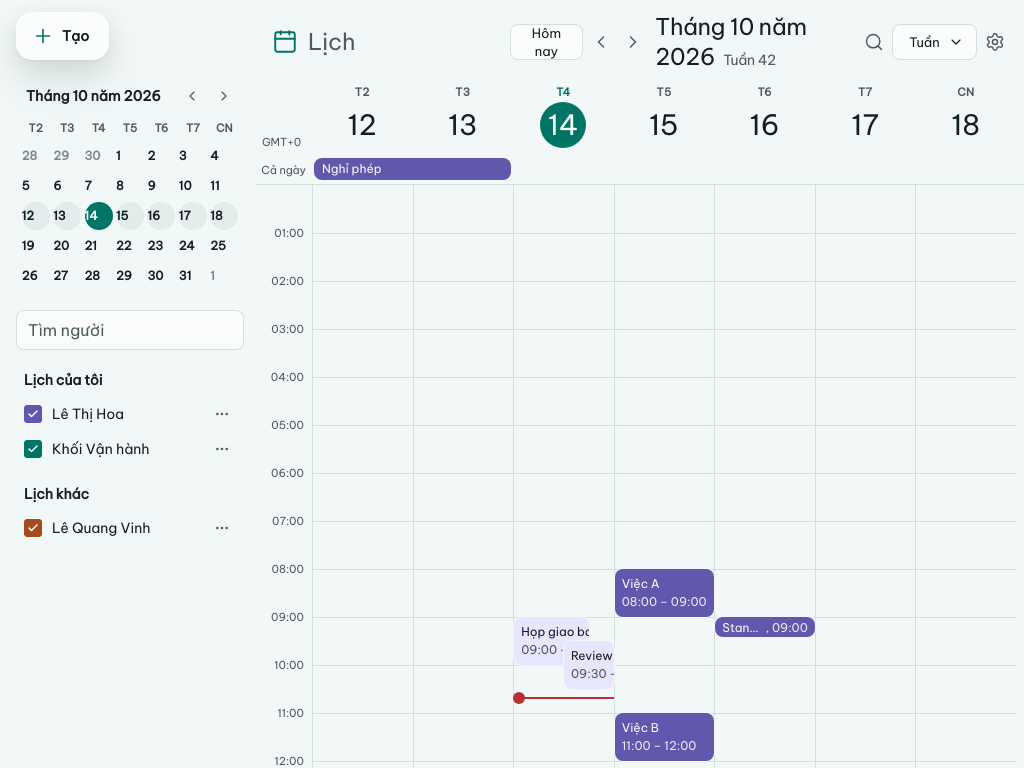
it: views and keys › switches from the view menu, which names the shortcut of each
This screenshot has width=1024, height=768.
Click the button "Tuần".
click(935, 42)  # box [892, 24, 977, 60]
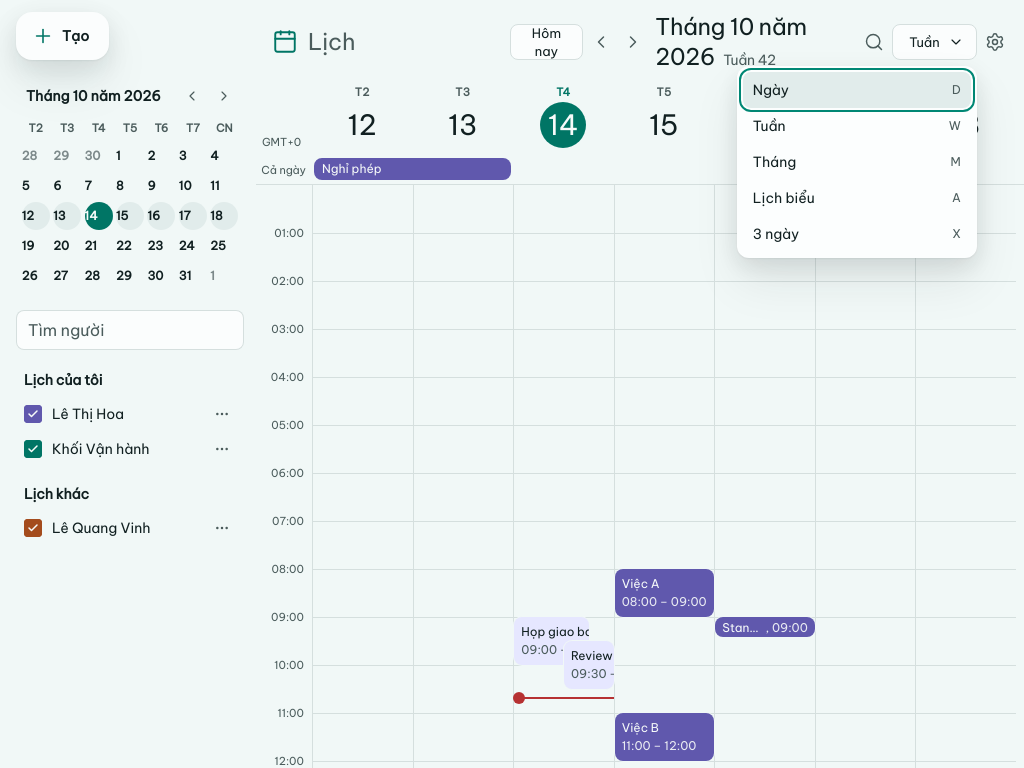
Click the menu item "Tháng M".
click(857, 162)  # box [743, 144, 971, 180]
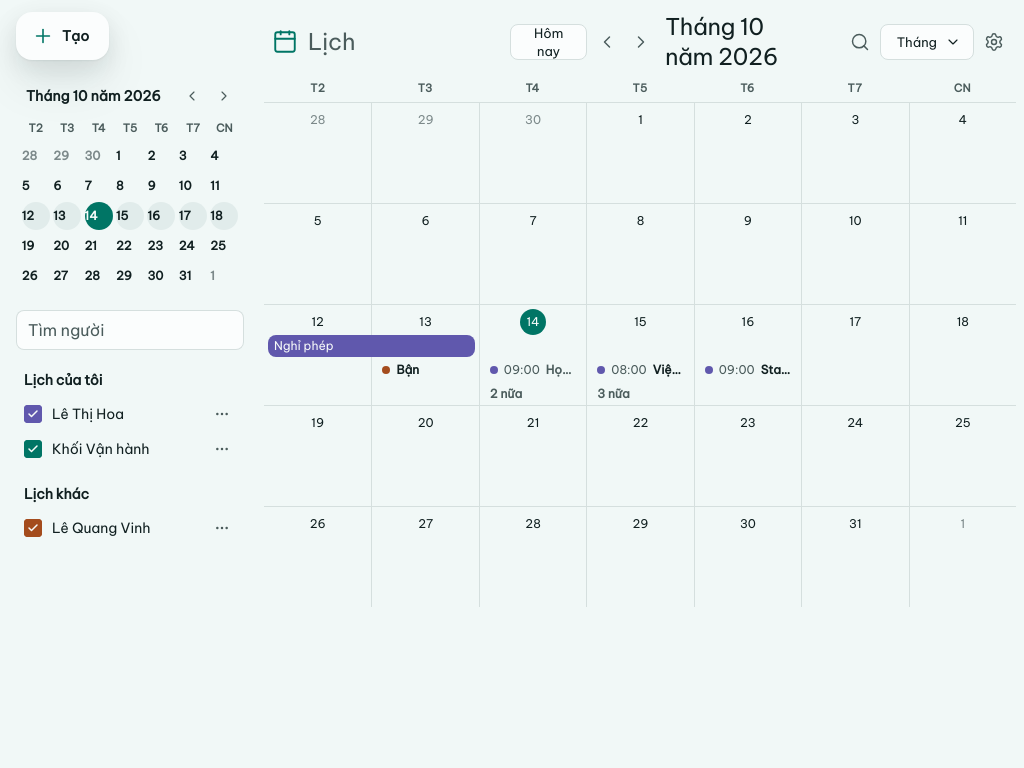
Now the element with test id "month-grid" is shown, box [256, 80, 1023, 615]
